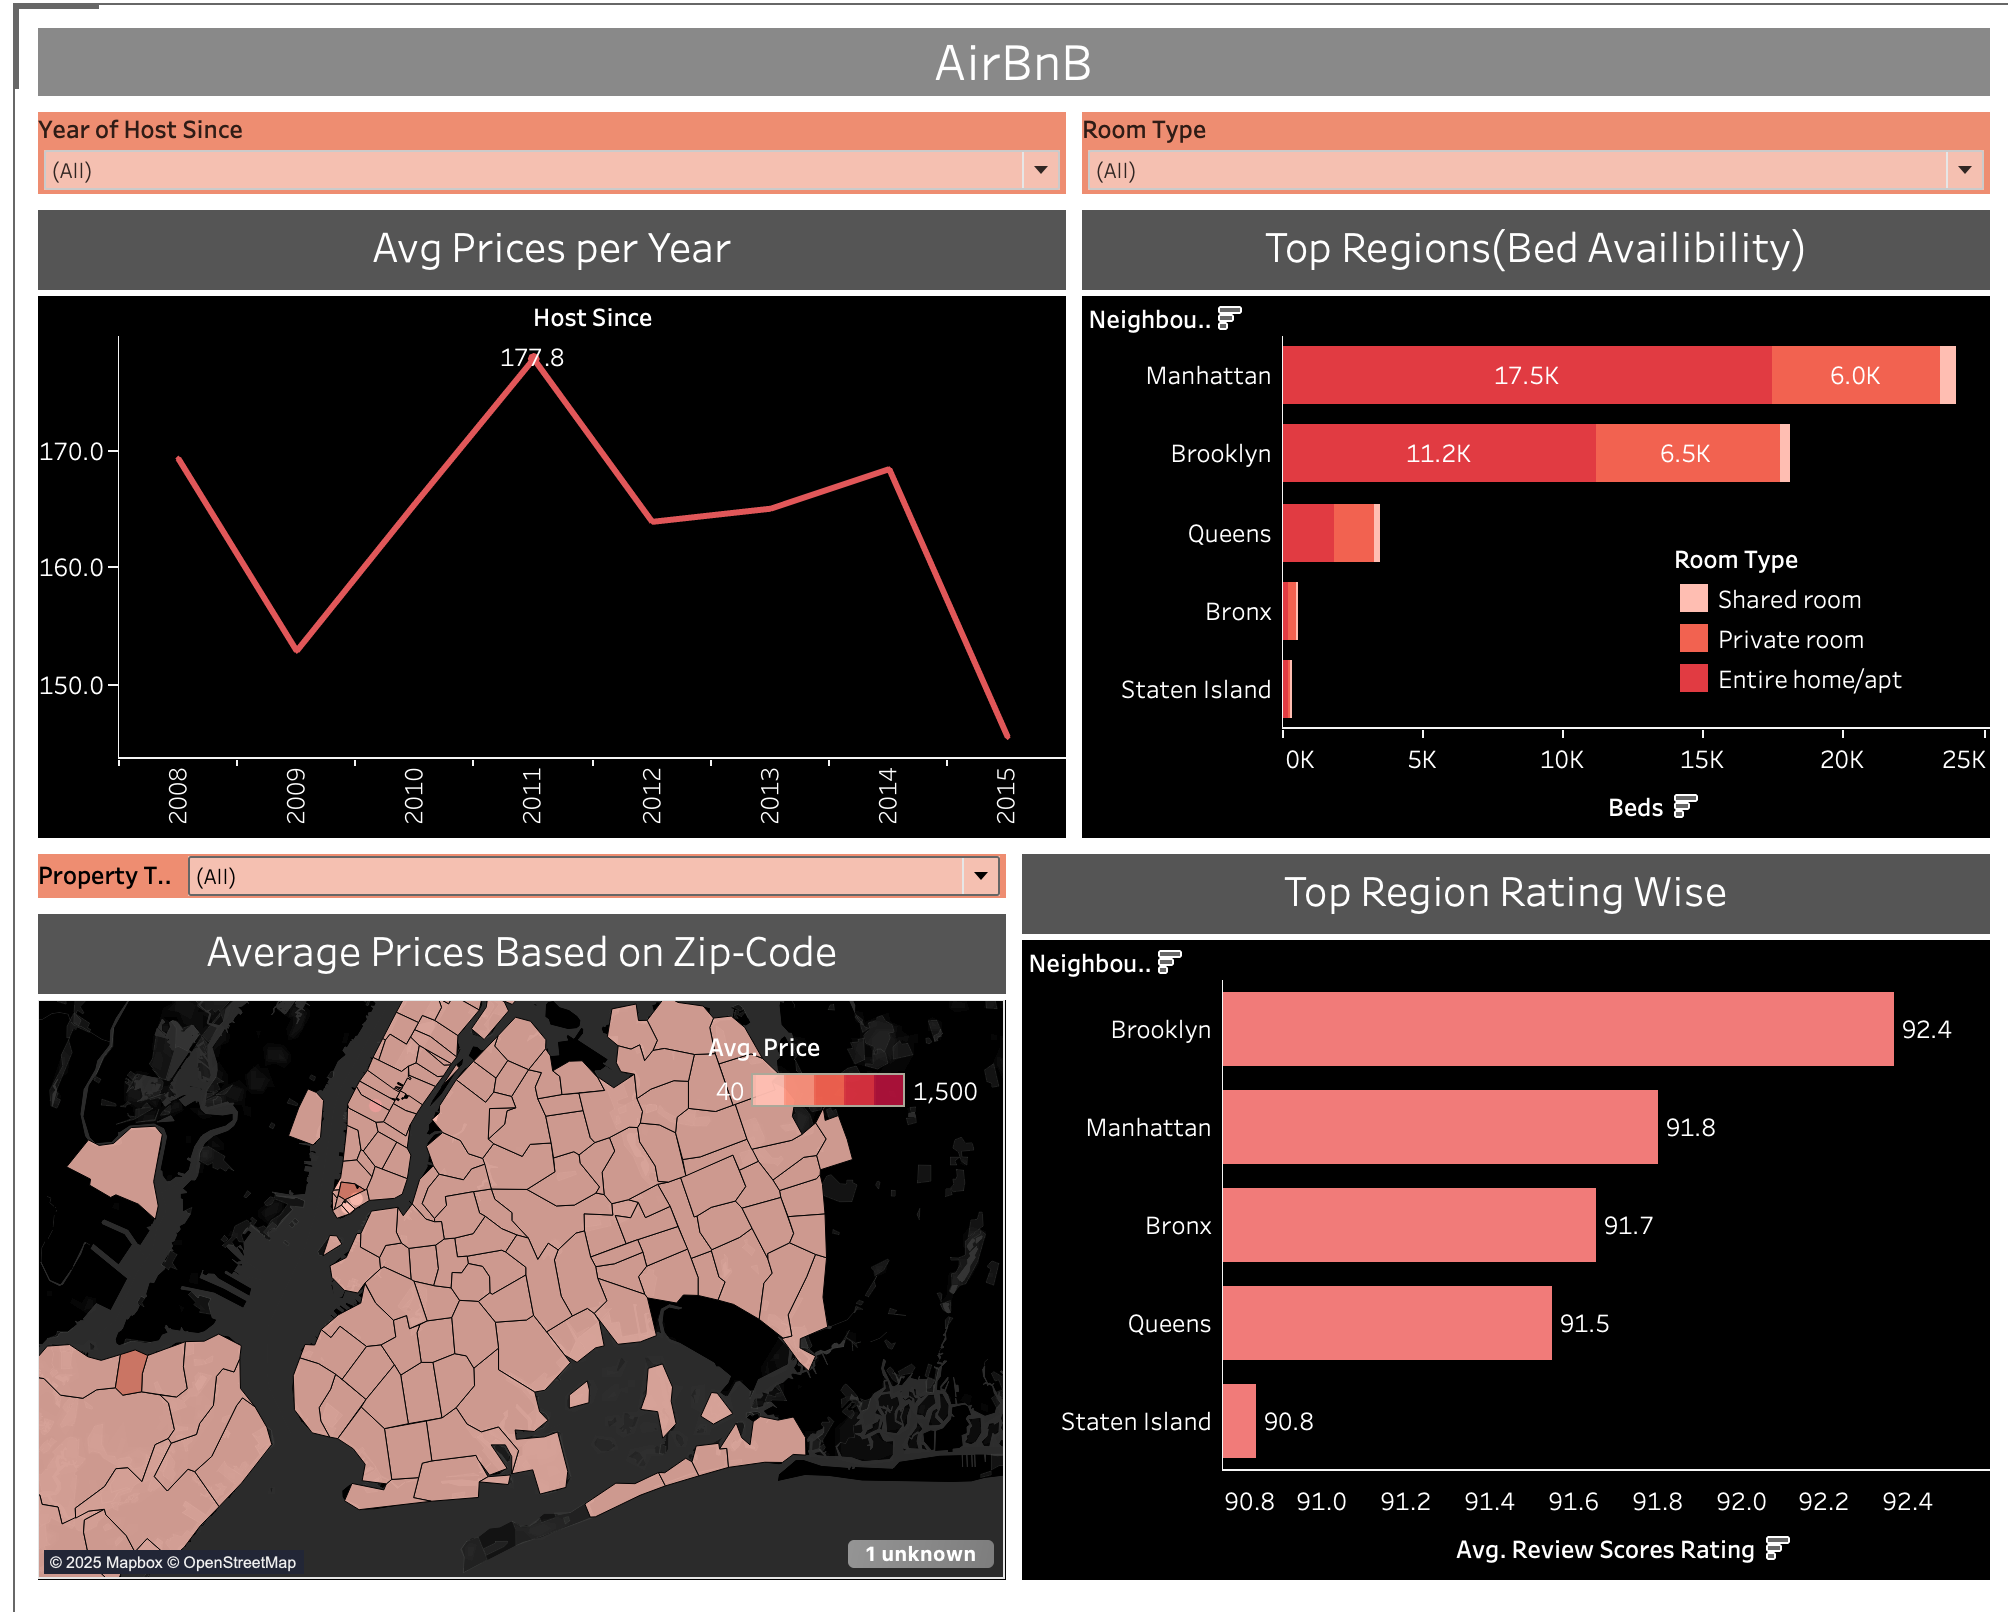

Layout of this report page (visuals, bound fields, positions):
{"tool":"tableau","page":{"name":"Dashboard 1","canvas":[1000,800],"ordinal":0},"visuals":[{"type":"title","box":[8,8,984,42]},{"type":"filter","title":"Sheet 2","param":"[federated.1npee3g1epoky214do4ds0xwzqj8].[yr:Host Since:ok]","box":[8,50,522.5,49.2]},{"type":"filter","title":"Sheet 2","param":"[federated.1npee3g1epoky214do4ds0xwzqj8].[none:Room Type:nk]","box":[530.5,50,461.5,49.2]},{"type":"worksheet","title":"Sheet 4","mark":"Automatic","rows":["Price"],"cols":["Host Since"],"box":[8,99.2,522,321.8]},{"type":"worksheet","title":"Sheet 3","mark":"Automatic","rows":["Neighbourhood"],"cols":["Beds"],"box":[530,99.2,462,321.8]},{"type":"legend","title":"Sheet 3","param":"[federated.1npee3g1epoky214do4ds0xwzqj8].[none:Room Type:nk]","box":[830,269,140,78]},{"type":"filter","title":"Sheet 3","param":"[federated.1npee3g1epoky214do4ds0xwzqj8].[none:Property Type:nk]","box":[8,421,492,30.3]},{"type":"worksheet","title":"Sheet 2","mark":"Automatic","rows":["Neighbourhood"],"cols":["Review Scores Rating"],"box":[500,421,492,371]},{"type":"worksheet","title":"Sheet 1","mark":"Automatic","box":[8,451.3,492,340.7]},{"type":"legend","title":"Sheet 1","param":"[federated.1npee3g1epoky214do4ds0xwzqj8].[avg:Price:qk]","box":[347,513,140,76]}]}

Visuals, with their boxes in screenshot pixels (x1, y1, x2, y2), scaled from the page's 1000x800 canvas onto the 2008x1612 screenshot:
title: Rect(16, 16, 1992, 101)
"Sheet 2" filter: Rect(16, 101, 1065, 200)
"Sheet 2" filter: Rect(1065, 101, 1992, 200)
"Sheet 4" worksheet: Rect(16, 200, 1064, 848)
"Sheet 3" worksheet: Rect(1064, 200, 1992, 848)
"Sheet 3" legend: Rect(1667, 542, 1948, 699)
"Sheet 3" filter: Rect(16, 848, 1004, 909)
"Sheet 2" worksheet: Rect(1004, 848, 1992, 1596)
"Sheet 1" worksheet: Rect(16, 909, 1004, 1596)
"Sheet 1" legend: Rect(697, 1034, 978, 1187)
